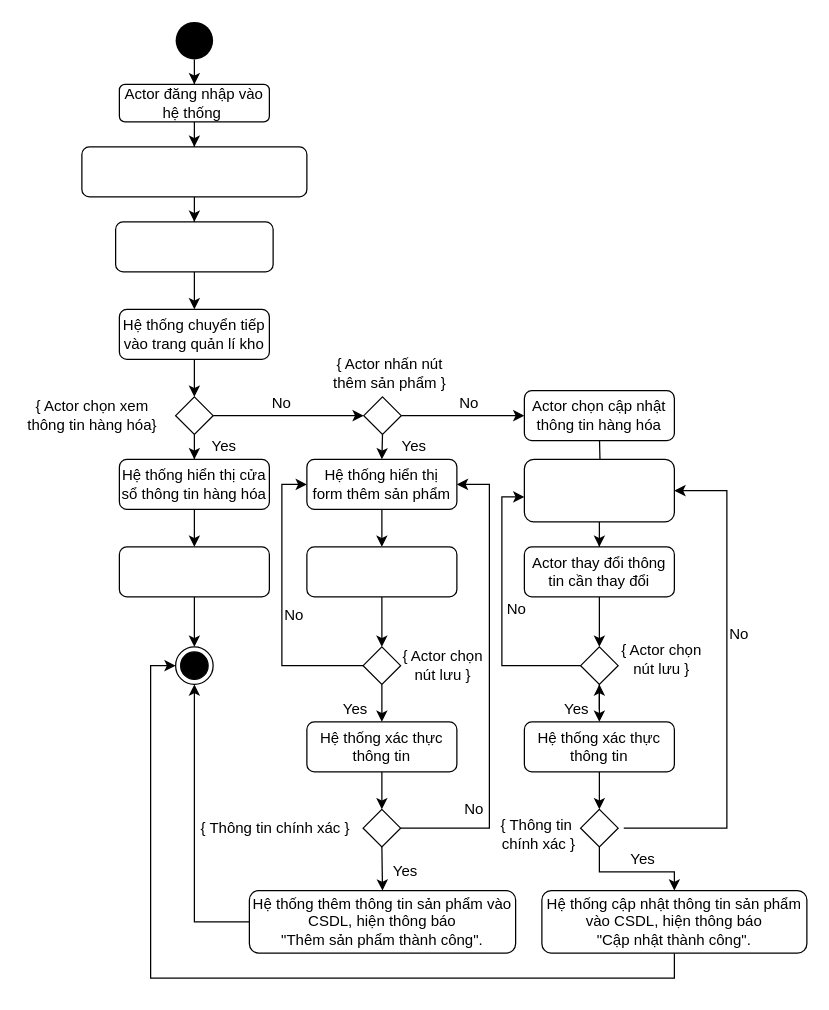
Some shapes in this 829 by 1010 pixel diagram are drawn without their labels. The box of each missing label's shape, as (x1, y1, x2, y2) in pixels:
Actor chọn chức năng quản lí kho: (114, 221, 273, 272)
Actor nhập thông tin sản phẩm cần thêm: (306, 546, 457, 597)
Actor xem cửa sổ đã hiển thị: (118, 546, 269, 597)
Hệ thống chuyển tiếp vào cửa sổ hiển thị form cập nhật: (523, 458, 674, 522)
Hệ thống hiển thị trang chủ và các chức năng để actor chọn: (81, 146, 307, 197)
